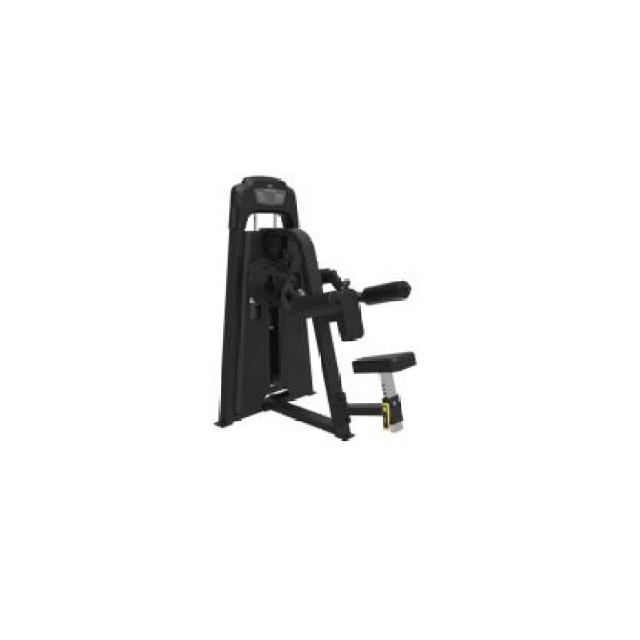lateral raises machine: (214, 176, 423, 442)
